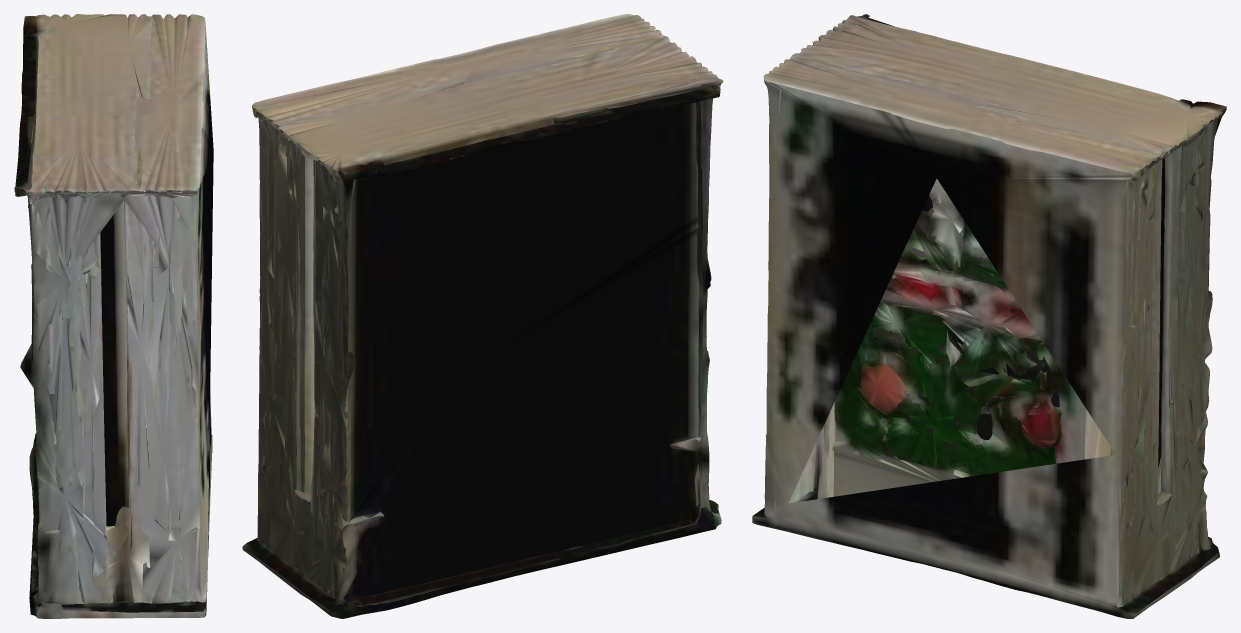
3 renders of one model, left to right at view 1: azimuth 30°, elevation 25°; view 2: azimuth 150°, elevation 25°; view 3: azimuth 270°, elevation 25°, orthographic. The views are drawn at different scales.
Parts seen in each view (by area): view 1: world; view 2: world; view 3: world.
Part boxes in pixels (x1,y1,x2,y2): world: [14, 14, 213, 618]; world: [242, 14, 723, 618]; world: [752, 14, 1226, 618].
Size of the model in its own units: 0.3846 by 0.4864 by 0.4672.
Materials: 1 (1 with a texture image).
